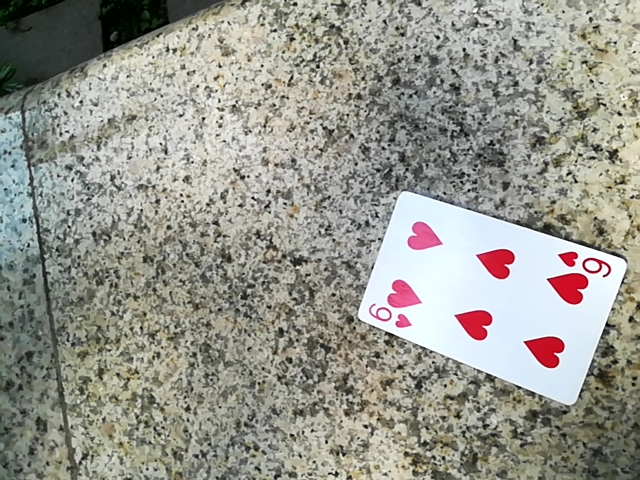hx 6: (358, 198, 632, 403)
